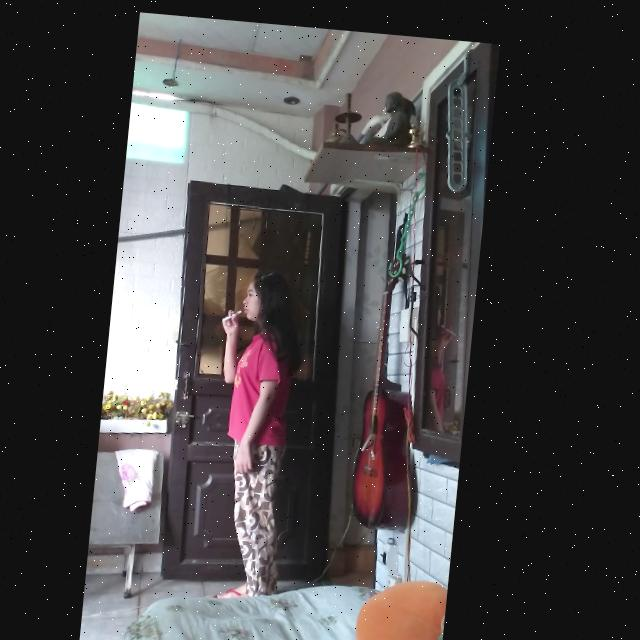cigarette: (228, 304, 248, 318)
